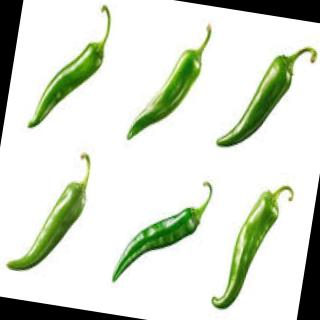Cabai Hijau: (4, 144, 96, 283), (112, 173, 215, 297), (217, 36, 319, 161), (209, 175, 297, 319), (127, 14, 214, 152), (27, 32, 109, 141)
